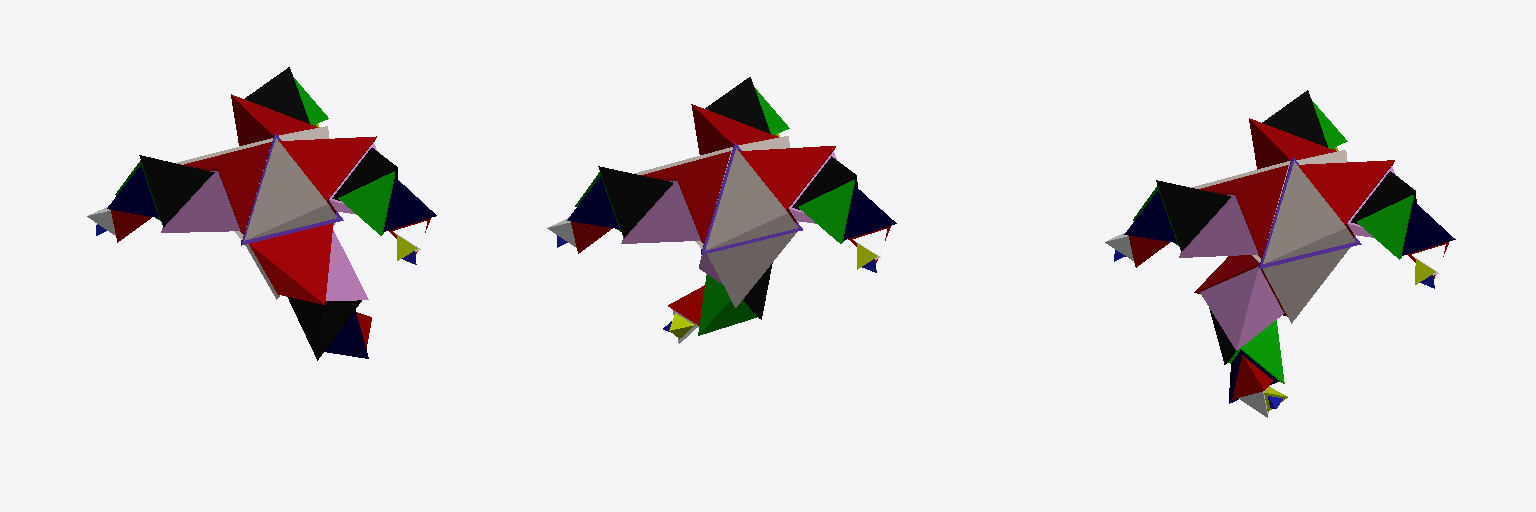
File: Tetra_4pod_connected.obj
The picture shows the model from 3 angles: view 1: azimuth 30°, elevation 25°; view 2: azimuth 150°, elevation 25°; view 3: azimuth 270°, elevation 25°; orthographic projection.
Visible parts, largest first — view 1: Tetra-p2_64_Cone.020, Tetra-p2_58.001_Cone.032, Tetra-p2_58_Cone.019, Tetra-p1_58_Cone.003, Tetra-p1_52_Cone.004, Tetra-p1_46_Cone.005, Tetra-p2_46.001_Cone.034, Tetra-p3_58_Cone.022, Tetra-p2_40_Cone.016, Tetra-p3_46_Cone.024, Tetra-p2_52.001_Cone.033, Tetra-p2_34_Cone.015 (+6 smaller); view 2: Tetra-p1_64_Cone.002, Tetra-p1_58_Cone.003, Tetra-p3_58_Cone.022, Tetra-p2_64.001_Cone.031, Tetra-p3_52_Cone.023, Tetra-p3_46_Cone.024, Tetra-p2_58_Cone.019, Tetra-p2_40.001_Cone.035, Tetra-p1_40_Cone.001, Tetra-p2_46_Cone.017, Tetra-p1_34_Cone.006, Tetra-p3_34_Cone.026 (+6 smaller); view 3: Tetra-p3_64_Cone.021, Tetra-p2_52.001_Cone.033, Tetra-p3_58_Cone.022, Tetra-p2_58_Cone.019, Tetra-p2_64.001_Cone.031, Tetra-p2_52_Cone.018, Tetra-p2_46_Cone.017, Tetra-p1_58_Cone.003, Tetra-p3_40_Cone.025, Tetra-p1_46_Cone.005, Tetra-p3_34_Cone.026, Tetra-p2_40.001_Cone.035 (+7 smaller).
Boxes of the visible parts, x1,y1,x2,y2 form: Tetra-p2_64_Cone.020: [244, 138, 336, 240]; Tetra-p2_58.001_Cone.032: [249, 223, 332, 304]; Tetra-p2_58_Cone.019: [279, 136, 376, 213]; Tetra-p1_58_Cone.003: [184, 142, 271, 234]; Tetra-p1_52_Cone.004: [161, 171, 240, 232]; Tetra-p1_46_Cone.005: [139, 155, 214, 227]; Tetra-p2_46.001_Cone.034: [288, 297, 361, 360]; Tetra-p3_58_Cone.022: [231, 94, 317, 145]; Tetra-p2_40_Cone.016: [338, 171, 395, 235]; Tetra-p3_46_Cone.024: [245, 67, 309, 123]; Tetra-p2_52.001_Cone.033: [326, 230, 368, 300]; Tetra-p2_34_Cone.015: [383, 177, 436, 231]; Tetra-p1_64_Cone.002: [705, 148, 797, 250]; Tetra-p1_58_Cone.003: [739, 146, 835, 222]; Tetra-p3_58_Cone.022: [641, 151, 730, 243]; Tetra-p2_64.001_Cone.031: [707, 232, 796, 307]; Tetra-p3_52_Cone.023: [621, 181, 700, 243]; Tetra-p3_46_Cone.024: [598, 166, 672, 237]; Tetra-p2_58_Cone.019: [691, 104, 778, 154]; Tetra-p2_40.001_Cone.035: [698, 275, 756, 335]; Tetra-p1_40_Cone.001: [798, 179, 854, 243]; Tetra-p2_46_Cone.017: [705, 77, 770, 133]; Tetra-p1_34_Cone.006: [843, 185, 896, 240]; Tetra-p3_34_Cone.026: [567, 176, 618, 228]; Tetra-p3_64_Cone.021: [1263, 161, 1355, 263]; Tetra-p2_52.001_Cone.033: [1200, 266, 1283, 350]; Tetra-p3_58_Cone.022: [1298, 160, 1394, 237]; Tetra-p2_58_Cone.019: [1199, 165, 1288, 258]; Tetra-p2_64.001_Cone.031: [1263, 247, 1350, 323]; Tetra-p2_52_Cone.018: [1179, 195, 1258, 257]; Tetra-p2_46_Cone.017: [1156, 180, 1230, 251]; Tetra-p1_58_Cone.003: [1249, 118, 1336, 169]; Tetra-p3_40_Cone.025: [1357, 195, 1413, 259]; Tetra-p1_46_Cone.005: [1262, 90, 1327, 147]; Tetra-p3_34_Cone.026: [1402, 201, 1455, 255]; Tetra-p2_40.001_Cone.035: [1228, 320, 1284, 383].
Bounding box in the file's own units: 192 × 151 × 207.